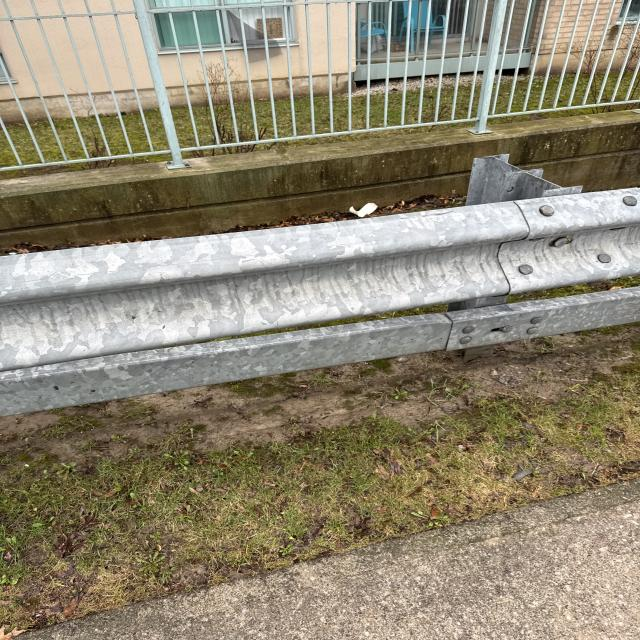Guard rail: (23, 180, 640, 379)
